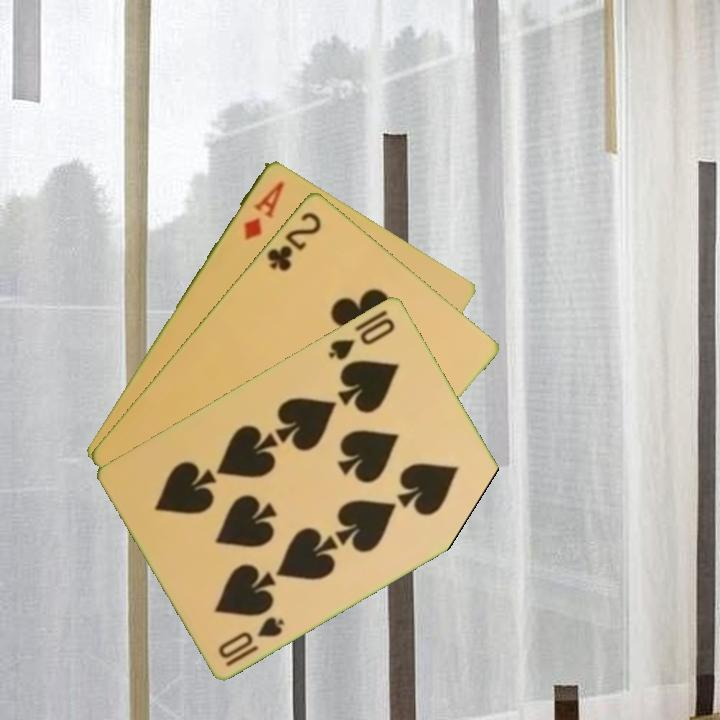10s: (324, 305, 399, 363), (214, 612, 288, 669)
2c: (263, 207, 325, 274)
Ad: (240, 177, 287, 243)
